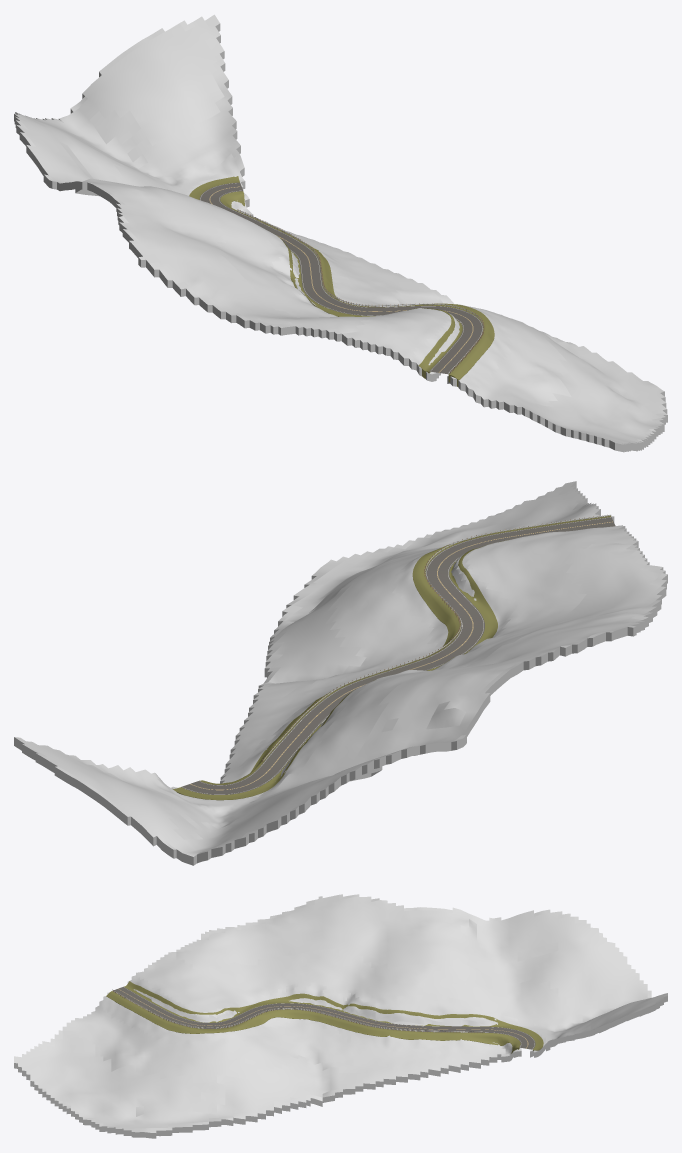
File: conz_142.glb
The picture shows the model from 3 angles, top to bottom: view 1: azimuth 30°, elevation 25°; view 2: azimuth 150°, elevation 25°; view 3: azimuth 270°, elevation 25°; orthographic projection. The views are drawn at different scales.
Visible parts, largest first — view 1: terrain142, road142, verge142L, verge142R; view 2: terrain142, road142, verge142L, verge142R, beam142_502500, paint_yellow142, paint_white142; view 3: terrain142, verge142L, road142, verge142R, beam142_502500.
Boxes of the visible parts, x1,y1,x2,y2 form: terrain142: (14,14,667,452); road142: (199,182,482,374); verge142L: (220,191,494,386); verge142R: (189,176,462,378); terrain142: (14,481,667,865); road142: (181,517,615,794); verge142L: (199,515,610,784); verge142R: (172,540,508,800); beam142_502500: (263,514,611,760); paint_yellow142: (190,521,612,790); paint_white142: (182,517,610,794); terrain142: (14,894,667,1138); verge142L: (106,991,520,1053); road142: (112,986,535,1049); verge142R: (124,981,543,1050); beam142_502500: (112,989,482,1031).
Bounding box in the file's own units: 162 × 59.23 × 322.
